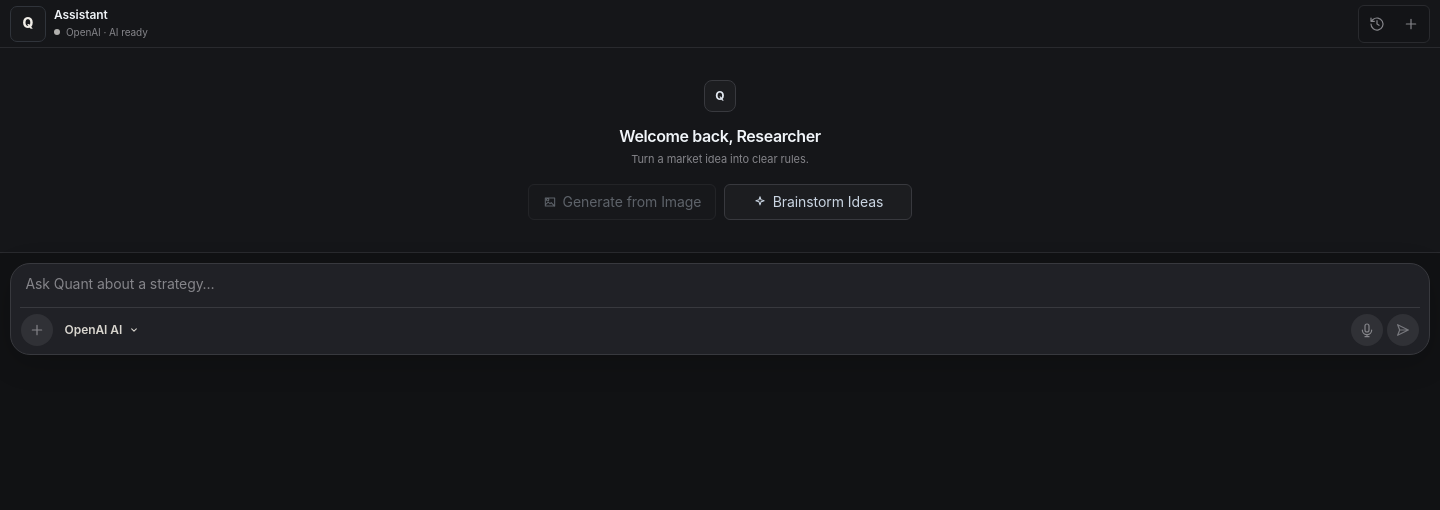
freezes the save identity on an uncertain result and does not ask AI before confirmation
This screenshot has width=1440, height=510.
Expected: the text "OpenAI · AI ready" is shown, top-left (54, 25), bottom-right (148, 40)
Click the button named "Conversation history": (1377, 24) top-left (1361, 8), bottom-right (1393, 40)
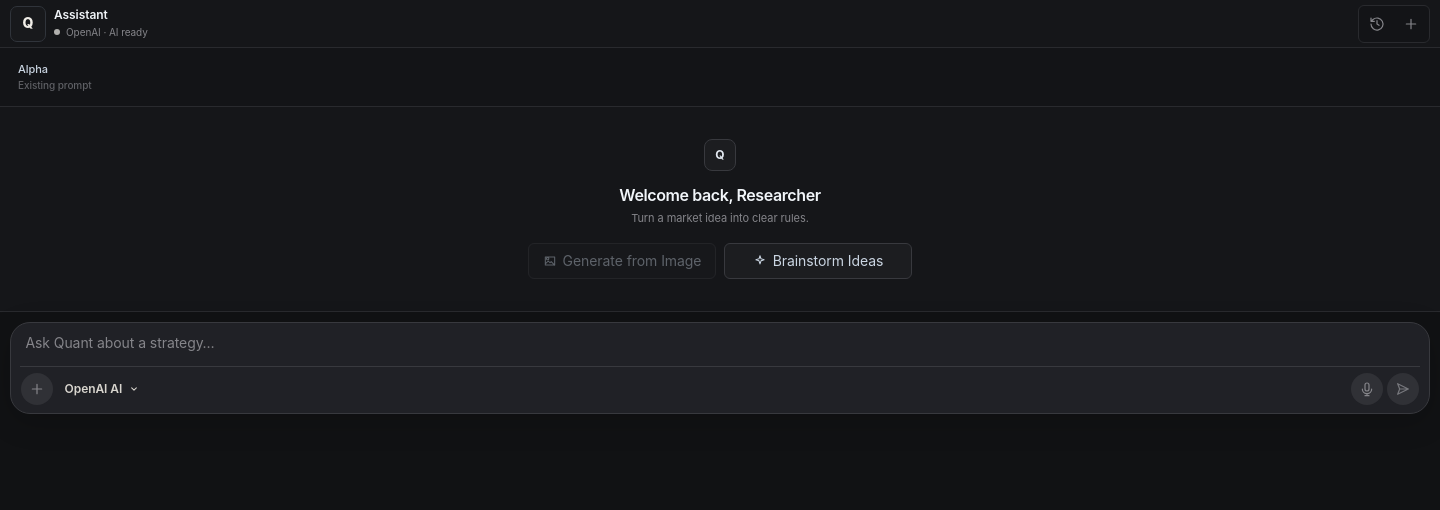
Click the button "Alpha Existing prompt": (55, 85) top-left (8, 56), bottom-right (1432, 98)
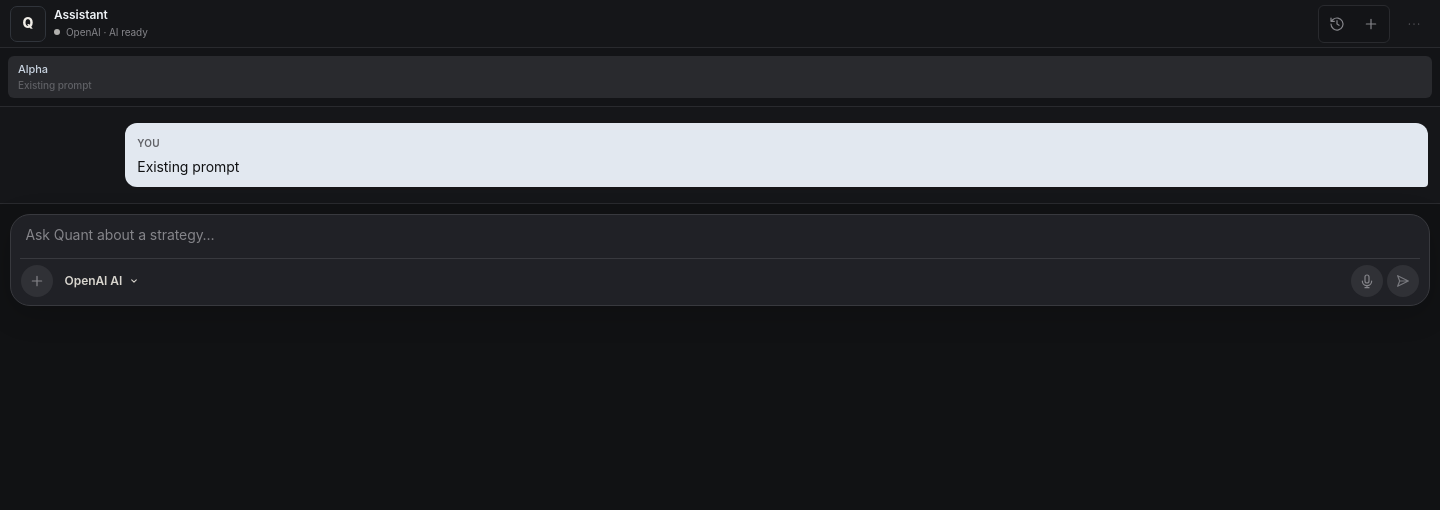
Expected: the text "OpenAI · AI ready" is shown, top-left (54, 25), bottom-right (148, 40)
In the text box named "Research message": (720, 240) top-left (20, 222), bottom-right (1420, 258), type "Private exact intent"
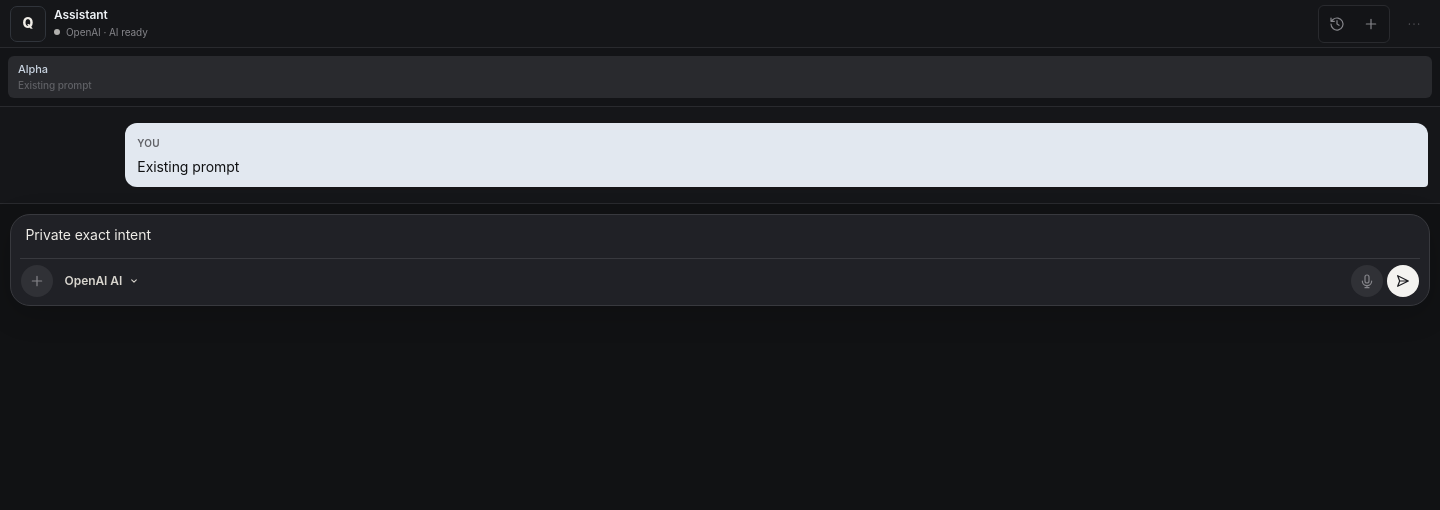
Click the button named "Send to Quant": (1403, 281) top-left (1387, 265), bottom-right (1419, 297)
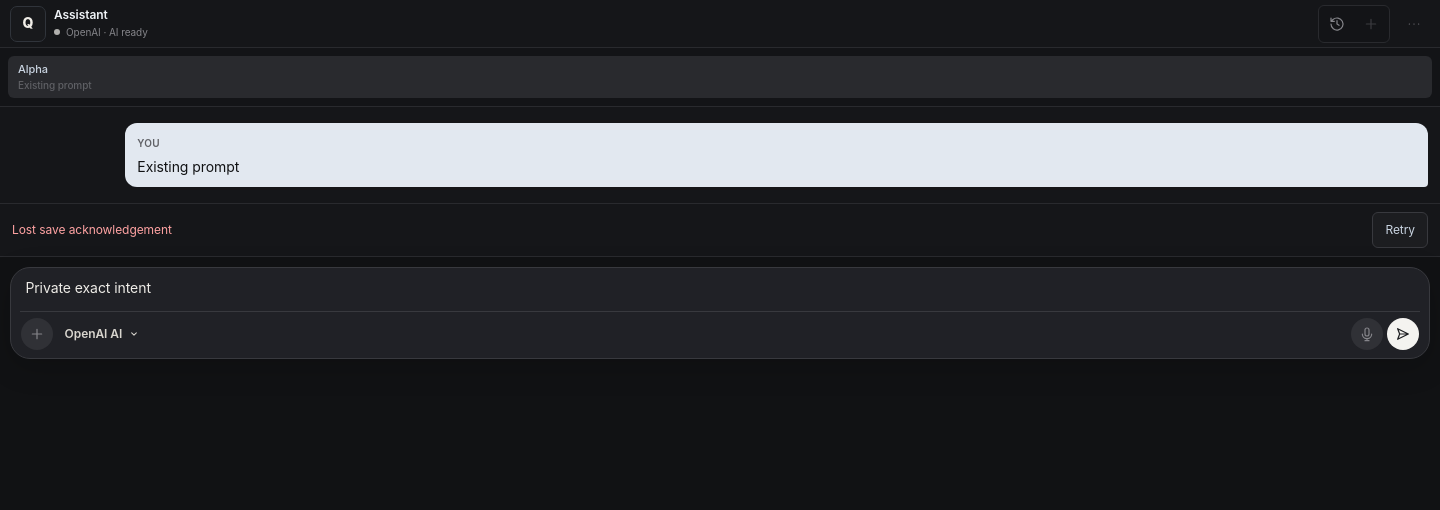
Now the message reads "Lost save acknowledgement", box top-left (12, 222), bottom-right (172, 237)
Click the button "Retry": (1400, 230) top-left (1372, 212), bottom-right (1428, 248)
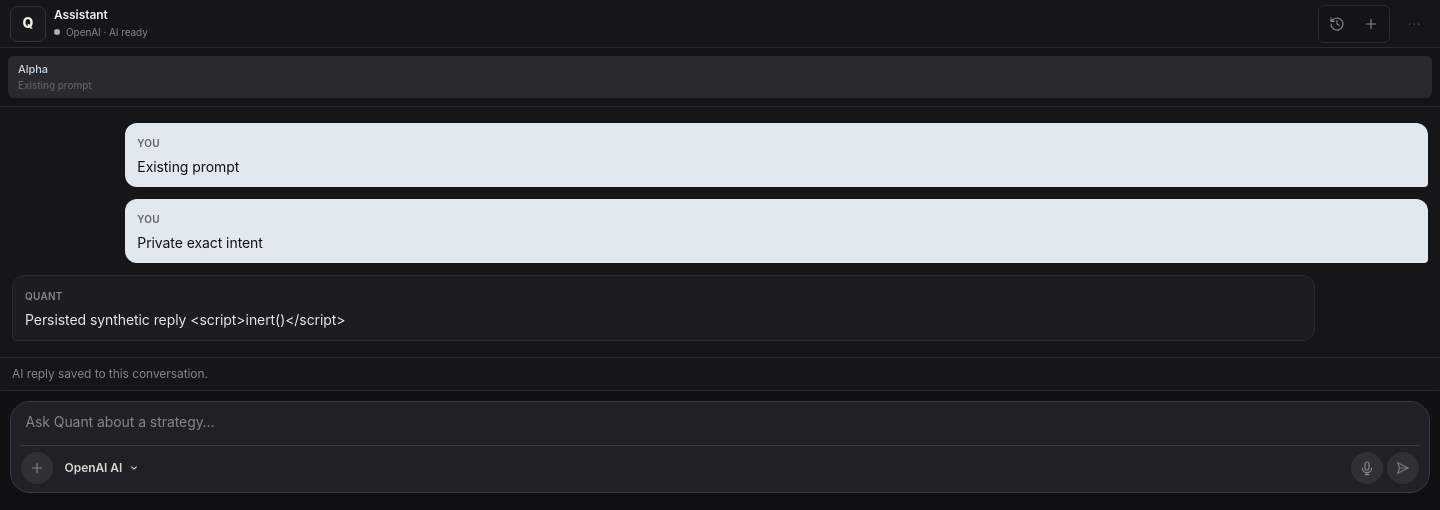
Now the text "Persisted synthetic reply <script>inert()</script>" is shown, box top-left (25, 311), bottom-right (346, 328)
